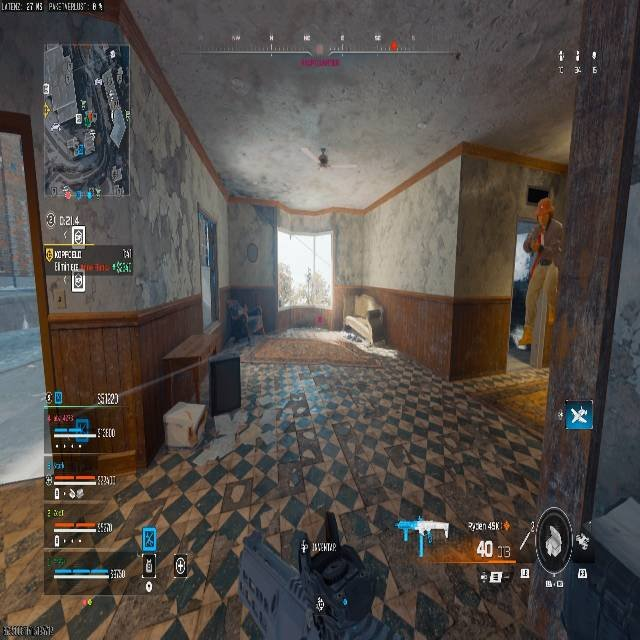head: (526, 186, 549, 211)
player: (514, 187, 561, 352)
